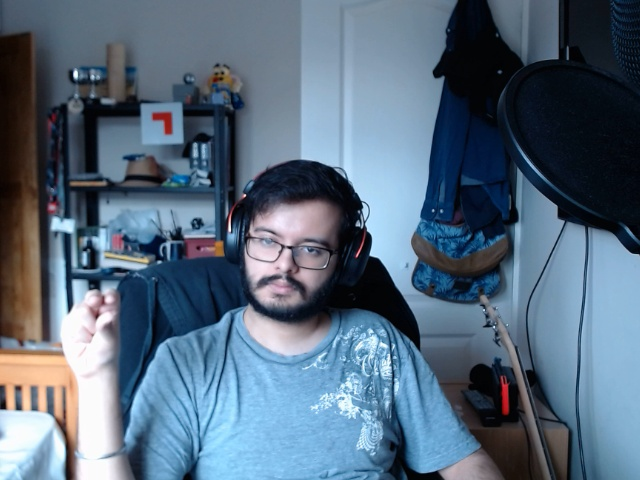No: (52, 282, 132, 395)
